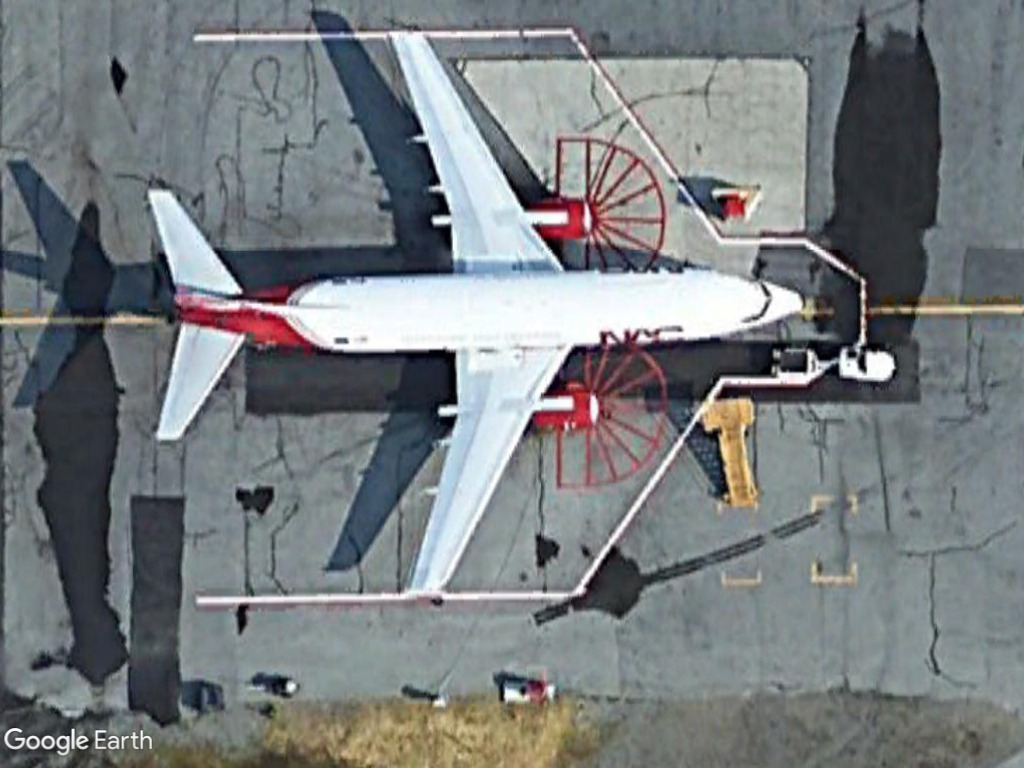airliner: (145, 26, 811, 600)
